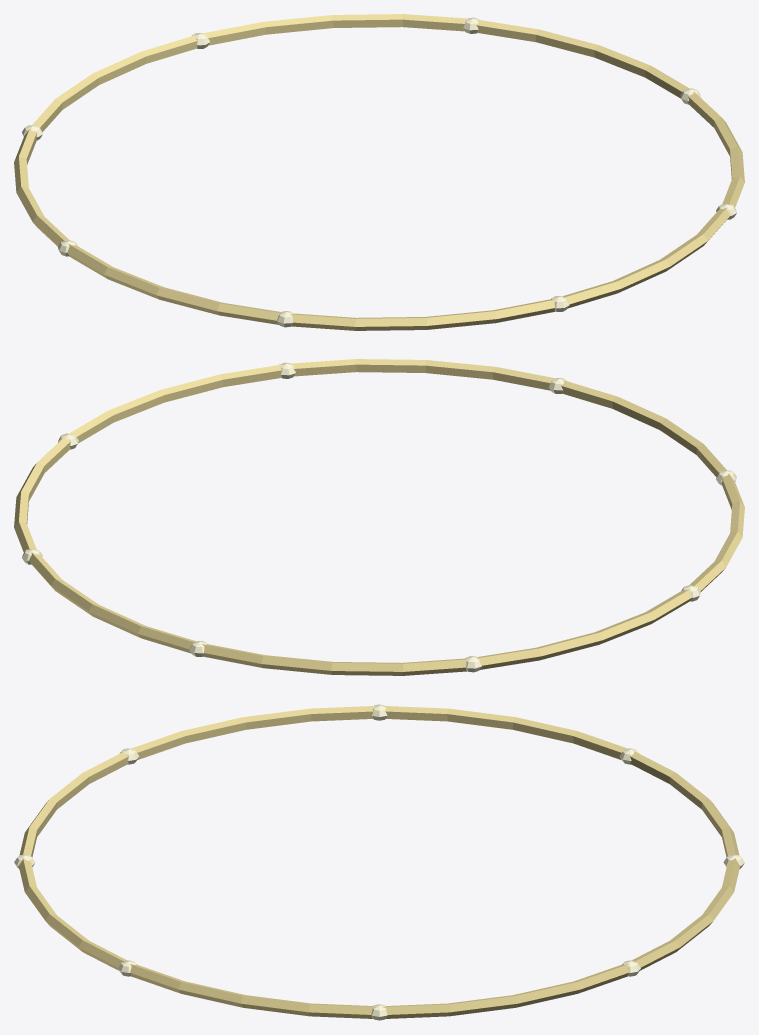
File: aro_turno.glb
3 renders of one model, top to bottom at view 1: azimuth 30°, elevation 25°; view 2: azimuth 150°, elevation 25°; view 3: azimuth 270°, elevation 25°, orthographic.
Visible parts, largest first — view 1: aro_turno; view 2: aro_turno; view 3: aro_turno.
Boxes of the visible parts, x1,y1,x2,y2 form: aro_turno: [14, 14, 744, 330]; aro_turno: [14, 359, 744, 675]; aro_turno: [14, 704, 744, 1020].
Bounding box in the file's own units: 4.74 × 0.1 × 4.74.
